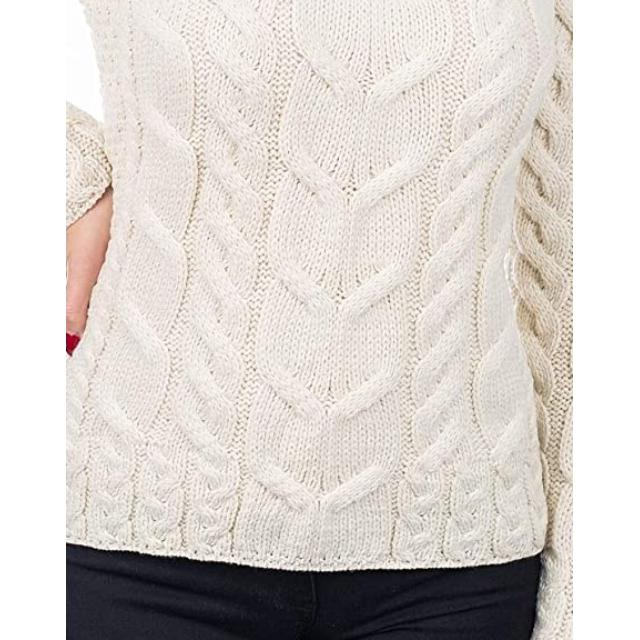wool: (66, 0, 574, 582)
